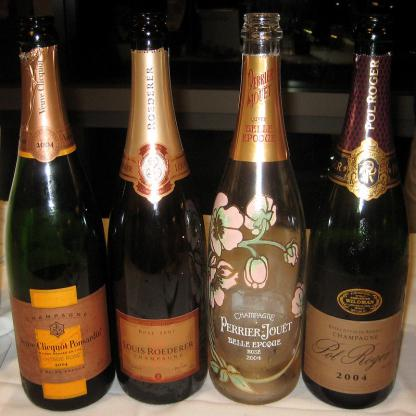drinking: (5, 16, 116, 412), (302, 14, 409, 410), (108, 13, 209, 405), (208, 12, 308, 405)
